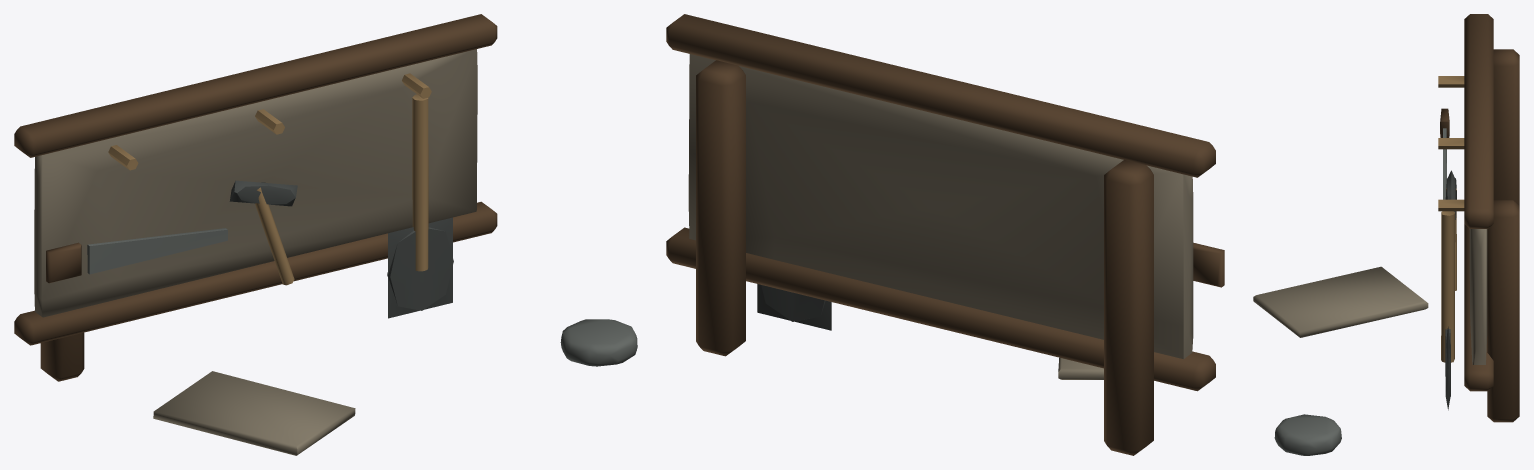
The model's file is tool_peg_b_lod1.glb.
The picture shows the model from 3 angles, left to right: view 1: azimuth 30°, elevation 25°; view 2: azimuth 150°, elevation 25°; view 3: azimuth 270°, elevation 25°; orthographic projection. The views are drawn at different scales.
Visible parts, largest first — view 1: Surface.001; view 2: Surface.001; view 3: Surface.001.
Boxes of the visible parts, x1=… form: Surface.001: x1=14, y1=14, x2=637, y2=455; Surface.001: x1=666, y1=14, x2=1224, y2=455; Surface.001: x1=1253, y1=14, x2=1519, y2=455.
Size of the model in its own units: 3.16 by 1.57 by 1.64.
